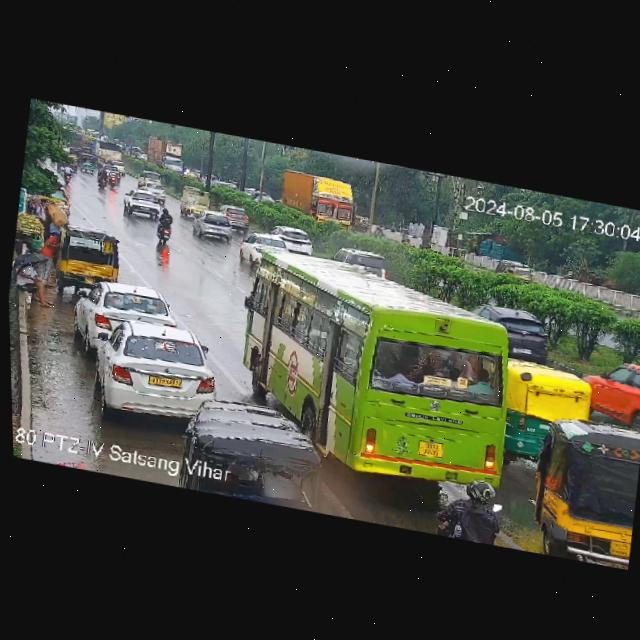bus: (214, 224, 543, 503)
car: (522, 405, 640, 571), (95, 322, 222, 428), (496, 359, 608, 474), (67, 269, 177, 369), (55, 224, 136, 302), (579, 338, 640, 430), (234, 225, 289, 276), (266, 222, 328, 260), (118, 183, 166, 228), (492, 250, 544, 291), (190, 205, 237, 244), (216, 196, 253, 234), (76, 149, 102, 177), (352, 212, 375, 237), (136, 169, 164, 186), (108, 156, 130, 176)
motorcycle: (429, 473, 511, 546), (151, 205, 181, 246), (94, 165, 112, 196), (371, 218, 393, 243), (60, 161, 80, 188), (106, 163, 122, 192), (404, 236, 416, 245)
person: (9, 249, 55, 313), (35, 220, 67, 290), (41, 204, 69, 260), (33, 196, 52, 228), (400, 229, 409, 244)
truck: (275, 163, 358, 226), (146, 132, 193, 177), (179, 184, 213, 222)
